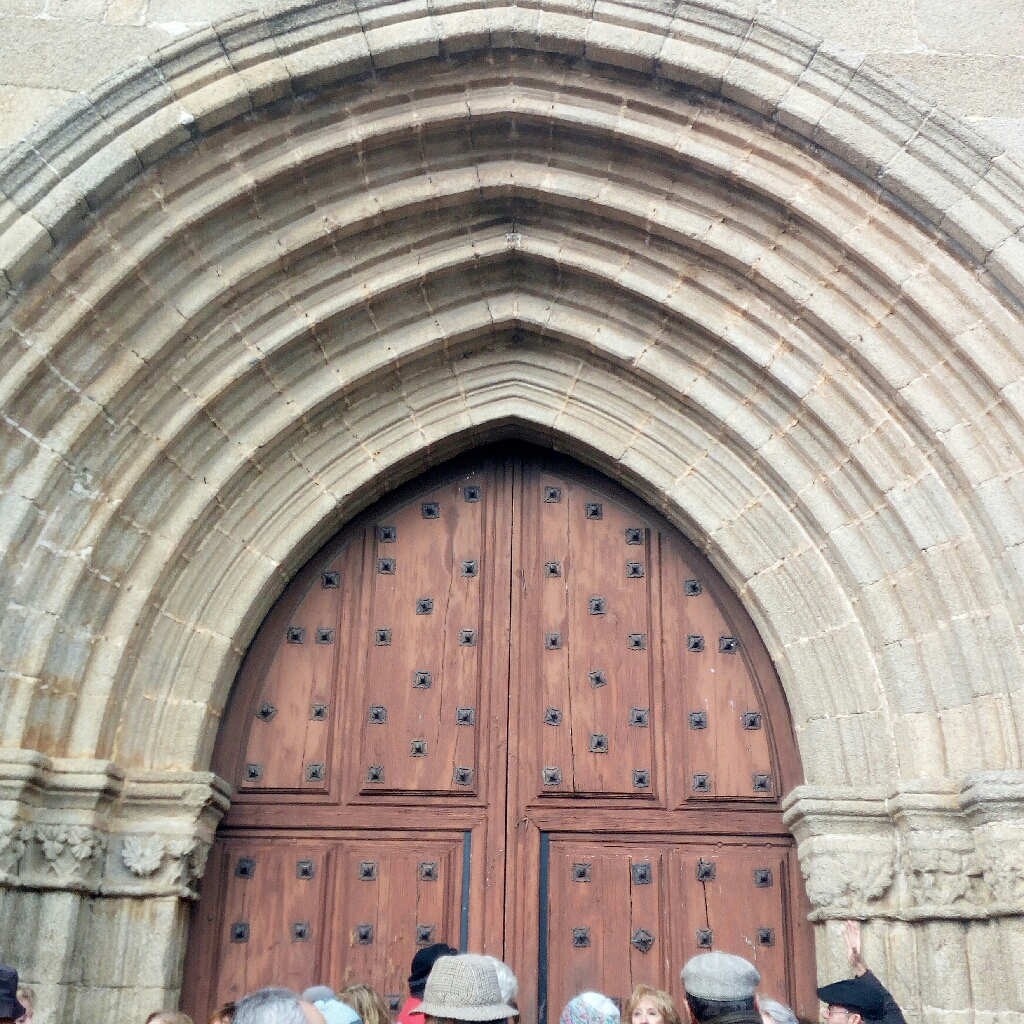arco-apuntado: (48, 217, 997, 765)
